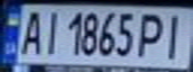1: (63, 8, 84, 55)
5: (115, 9, 142, 58)
6: (96, 9, 121, 57)
8: (78, 9, 100, 56)
A: (15, 7, 45, 56)
I: (157, 10, 193, 61), (39, 7, 63, 56)
P: (136, 10, 169, 60)
